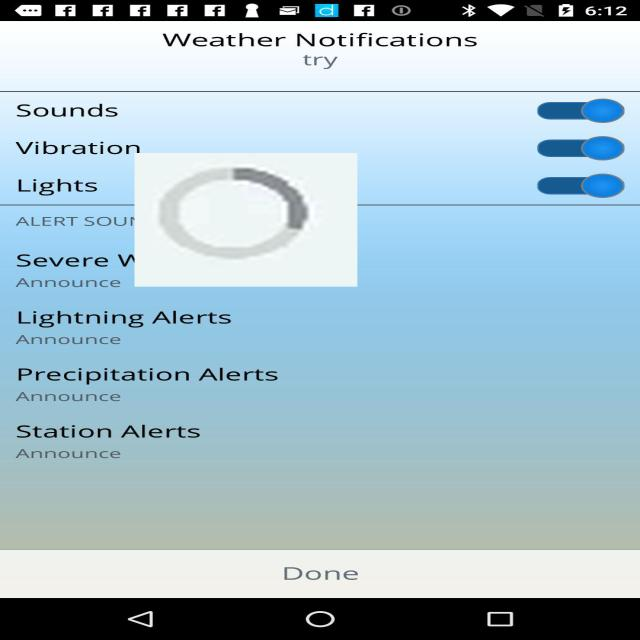misdirection: (134, 153, 358, 287)
